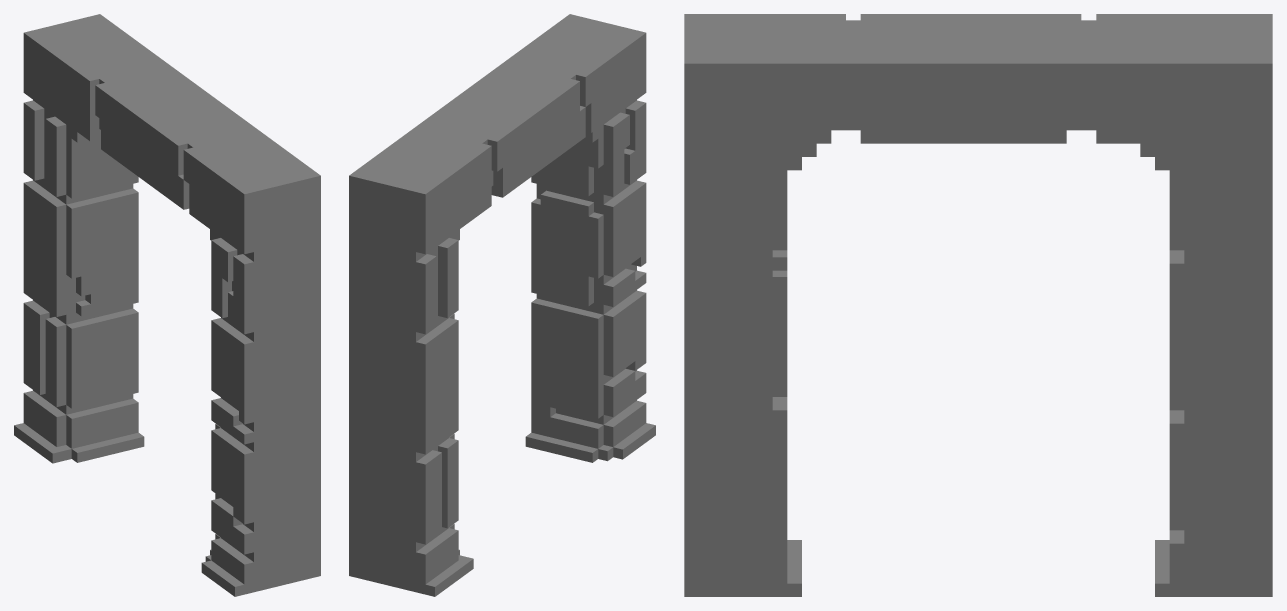
The model's file is wall_door.obj.
3 views of the same model, side by side, from view 1: azimuth 30°, elevation 25°; view 2: azimuth 150°, elevation 25°; view 3: azimuth 270°, elevation 25° (orthographic). The views are drawn at different scales.
Size of the model in its own units: 0.9 by 4 by 4.
1 material, 1 textured.
